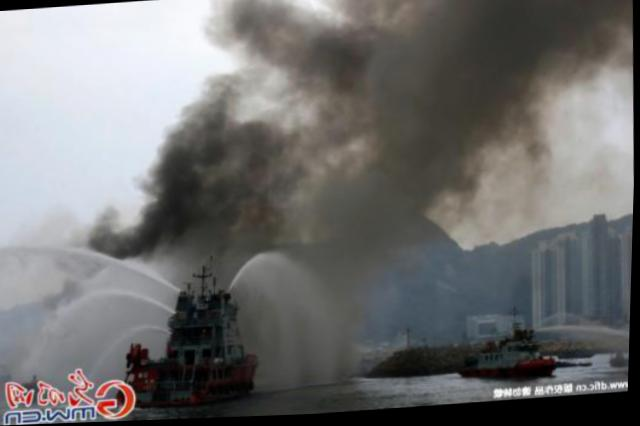smoke: (312, 0, 557, 135), (336, 134, 468, 247), (154, 128, 303, 225), (231, 8, 303, 67), (564, 0, 630, 57)
